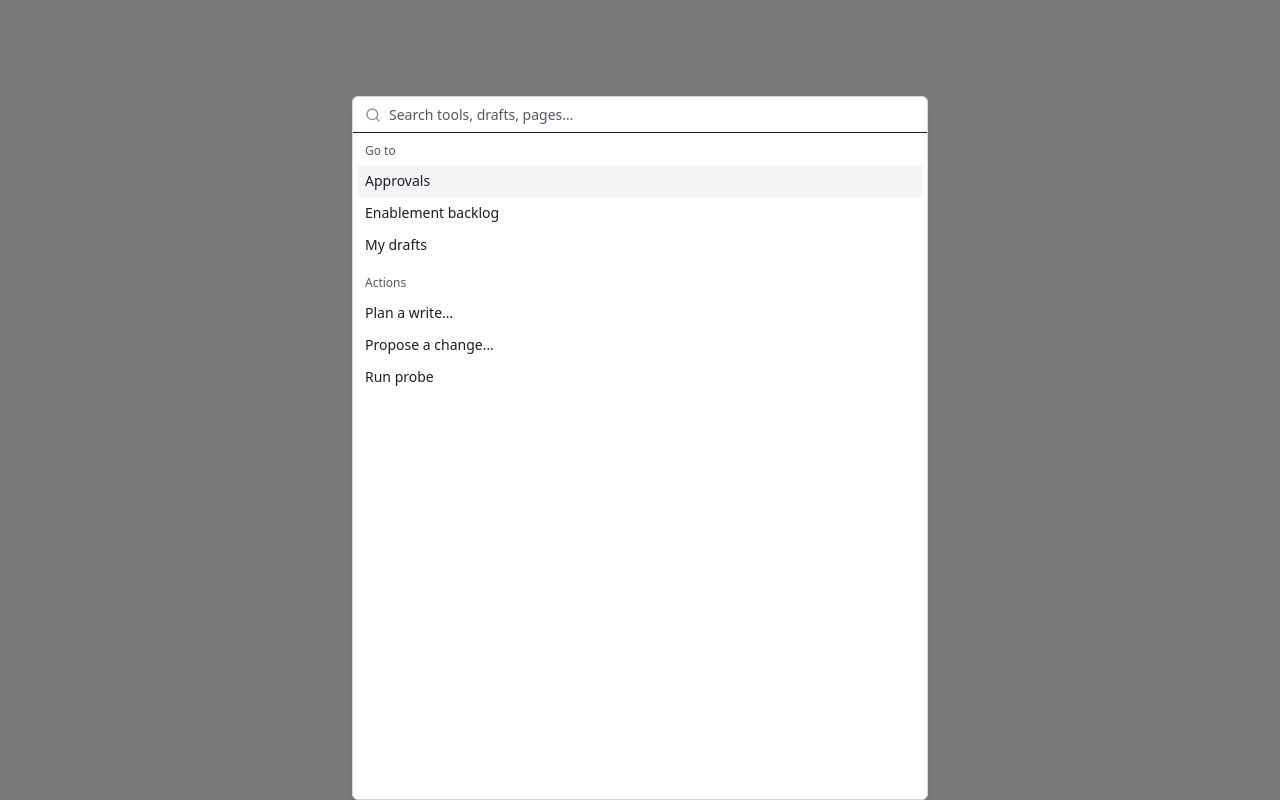
Test: disabled tools appear, with their reason (03 §9.2 rule 4) › renders the disabled tool with its agentMessage
The image size is (1280, 800).
Type "receipt status" into the dropdown with placeholder "Search tools, drafts, pages…" at (652, 114), box top-left (389, 94), bottom-right (915, 134)
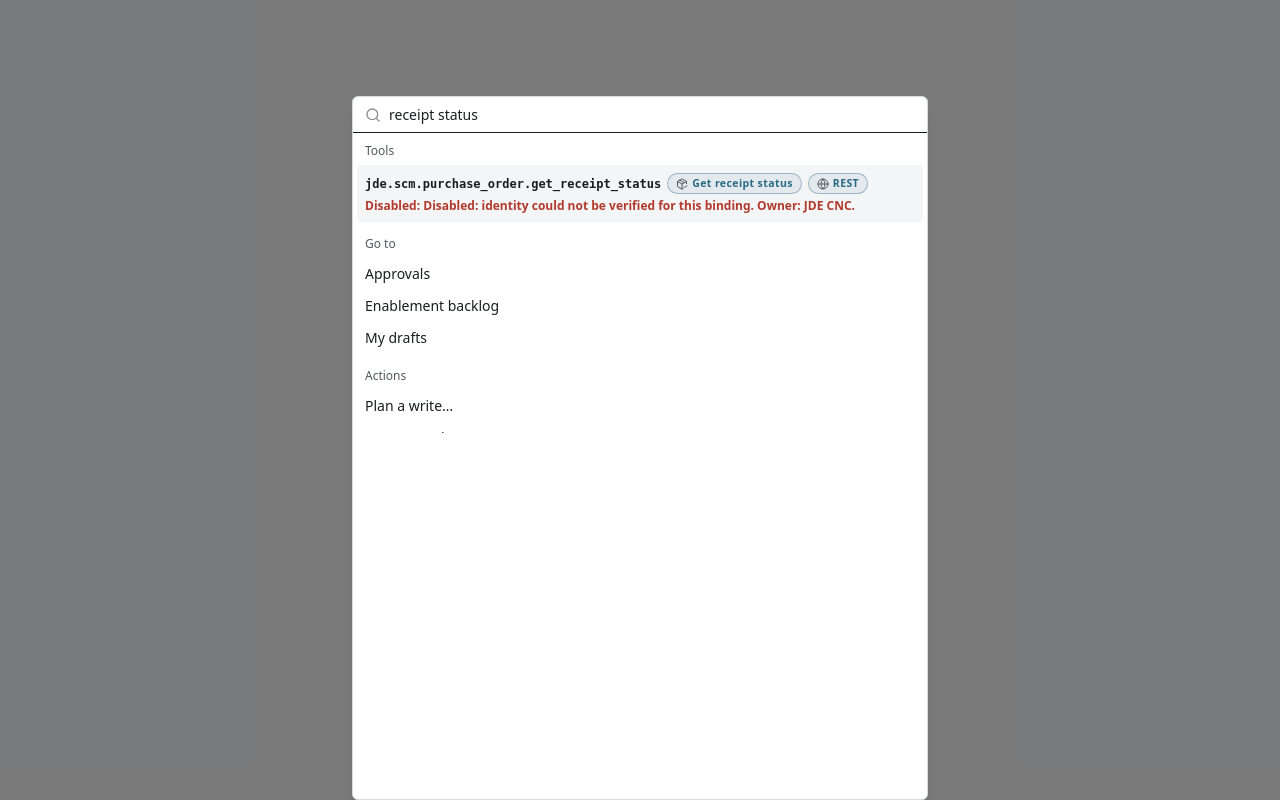
Check: the text "jde.scm.purchase_order.get_receipt_status" is shown, box top-left (365, 176), bottom-right (661, 192)
Check: the text "Disabled: identity could not be verified for this binding. Owner: JDE CNC." is shown, box top-left (423, 197), bottom-right (855, 214)
